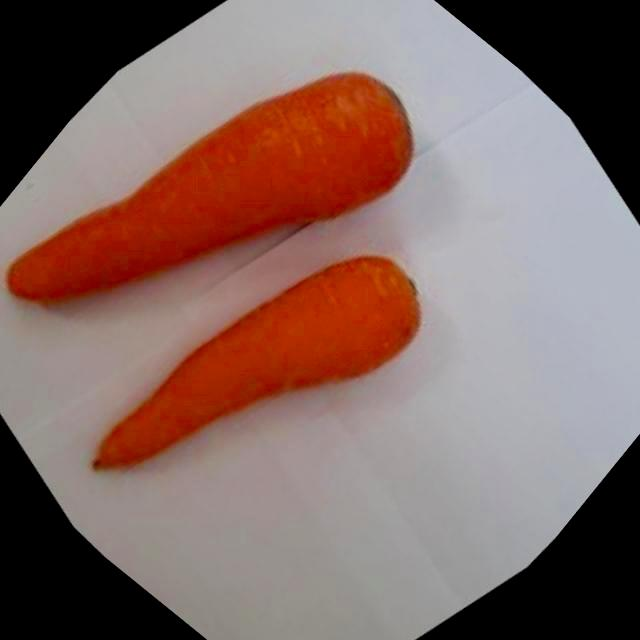carrot: (19, 104, 526, 638), (0, 0, 482, 487)
